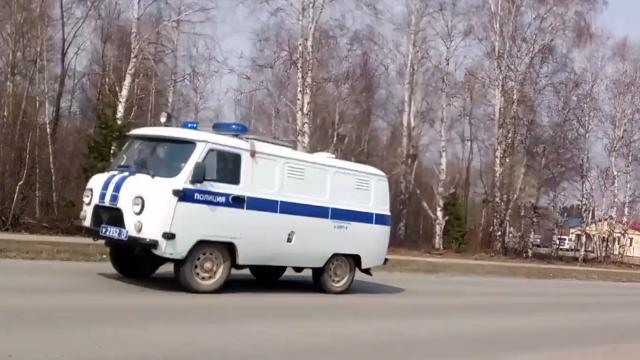police car: (82, 121, 393, 293)
